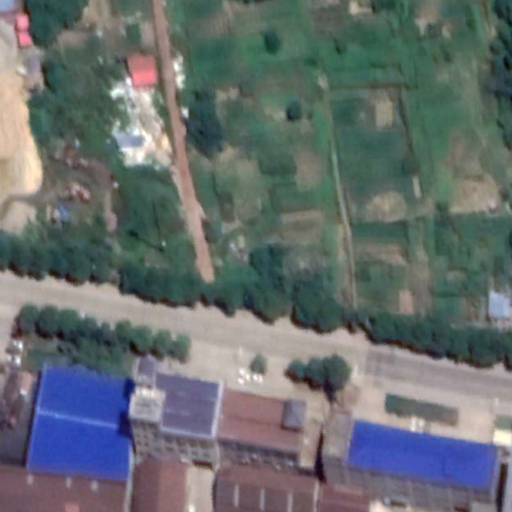msw: (110, 74, 176, 166)
